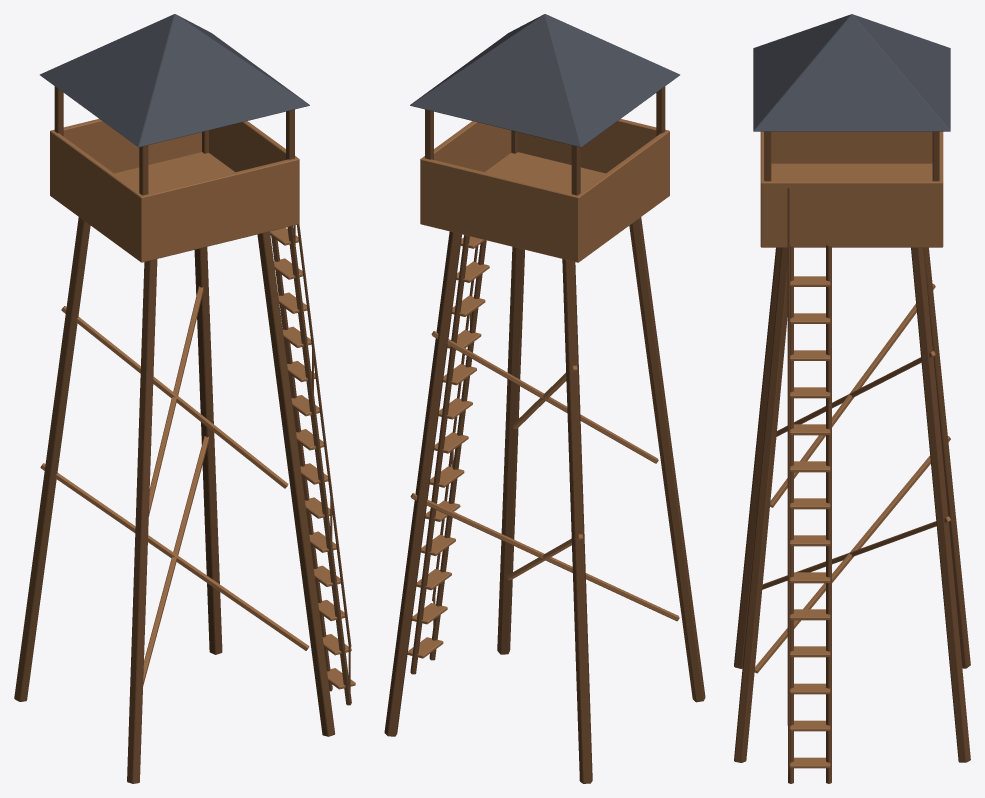
The model's file is utkikstorn.glb.
The picture shows the model from 3 angles, left to right: view 1: azimuth 30°, elevation 25°; view 2: azimuth 150°, elevation 25°; view 3: azimuth 270°, elevation 25°; orthographic projection.
Parts seen in each view (by area): view 1: utkikstorn; view 2: utkikstorn; view 3: utkikstorn.
Boxes of the visible parts, <box> form: utkikstorn: <box>14,14,355,783</box>; utkikstorn: <box>384,14,705,783</box>; utkikstorn: <box>734,14,970,783</box>.
Bounding box in the file's own units: 4.14 × 11 × 3.37.
